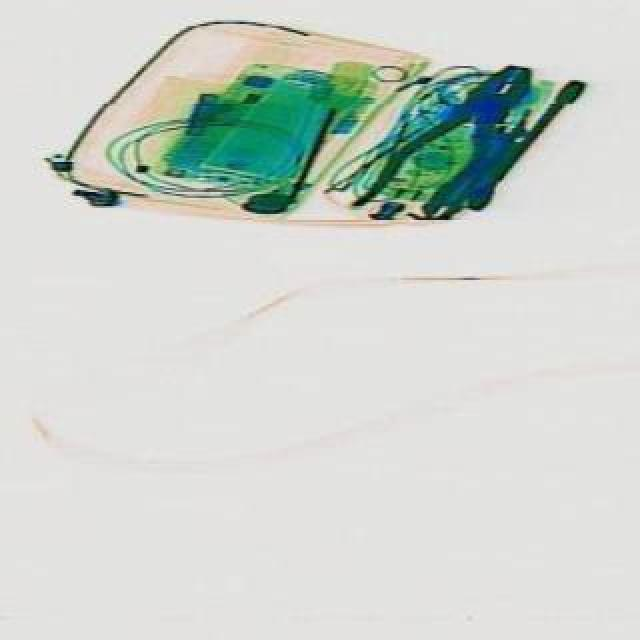wrench: (342, 44, 552, 248)
